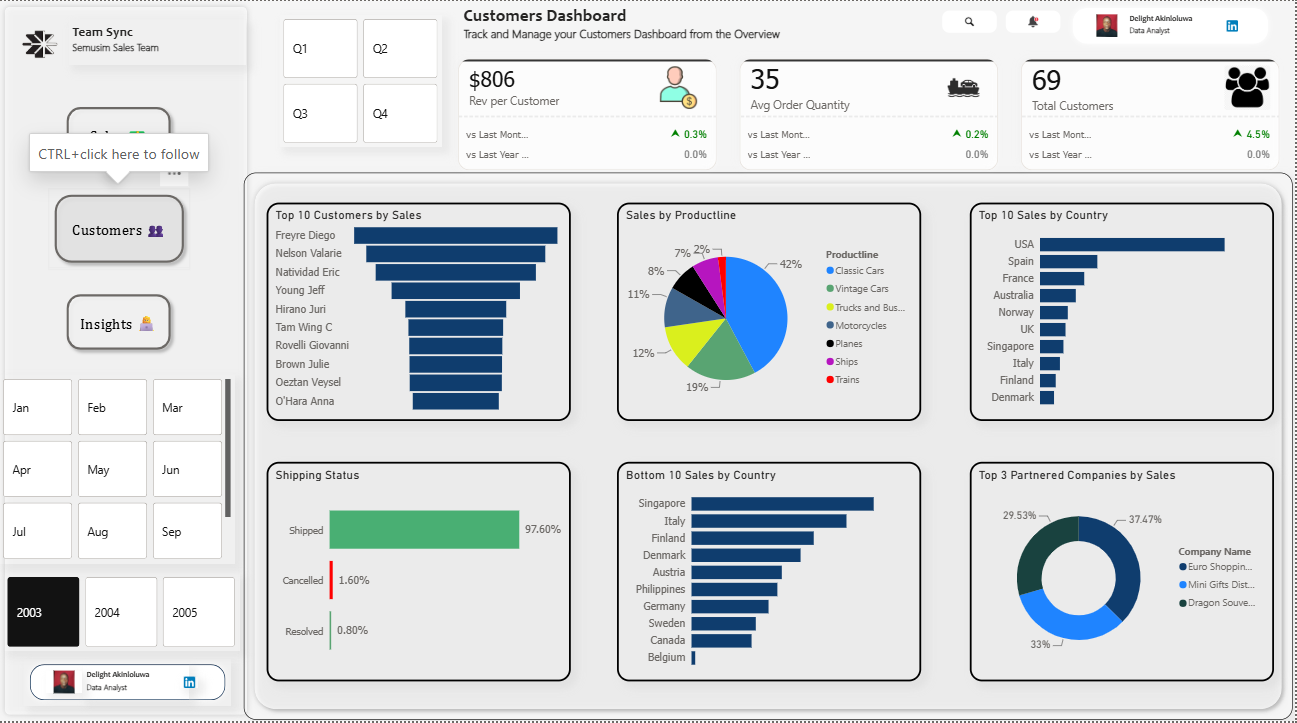

This screenshot's page, from the dashboard's own definition file:
{"tool":"powerbi","page":{"name":"Team Sync","canvas":[1800,1000],"ordinal":0},"visuals":[{"type":"shape","box":[0,0,352.6,999.3],"z":0},{"type":"group","id":"g1","title":"Group 4","box":[624.5,1,1179.3,255.3],"z":0,"group":"g3"},{"type":"textbox","box":[642.8,1,684.5,72.4],"z":0,"group":"g1"},{"type":"shape","box":[1485.7,3.5,287.3,65.7],"z":0,"group":"g5"},{"type":"image","box":[1312.8,10.5,75.6,35.5],"z":0,"group":"g4"},{"type":"image","box":[0,15.8,113.6,89.5],"z":0,"group":"g6"},{"type":"group","id":"g2","title":"Group 6","box":[343.1,239.7,1456.9,760.3],"z":0,"group":"g7"},{"type":"shape","box":[343.1,239.7,1456.9,760.3],"z":0,"group":"g2"},{"type":"actionButton","title":"Customer BT","box":[85.9,268.1,162.5,95],"z":0,"group":"g11"},{"type":"actionButton","title":"Customer BT","box":[84.7,397.5,162.5,95],"z":0,"group":"g10"},{"type":"advancedSlicerVisual","fields":{"Values":["Calendar_Date.Month"]},"box":[0,520,327.5,262.5],"z":0,"group":"g9"},{"type":"shape","box":[34.5,913.8,287.3,65.7],"z":0,"group":"g8"},{"type":"group","id":"g3","title":"Group 7","box":[393.1,1,1410.7,255.3],"z":1000,"group":"g7"},{"type":"group","id":"g4","title":"Group 3","box":[1312.8,3.5,460.4,65.7],"z":1000,"group":"g1"},{"type":"image","box":[1401.8,10.5,75.6,35.5],"z":1000,"group":"g4"},{"type":"image","box":[1515.9,20.6,50.4,31.5],"z":1000,"group":"g5"},{"type":"advancedSlicerVisual","fields":{"Values":["Calendar_Date.Quarter"]},"box":[393.1,20.7,225.9,182.8],"z":1000,"group":"g3"},{"type":"textbox","box":[96.1,27.6,246.1,61.8],"z":1000,"group":"g6"},{"type":"actionButton","title":"Sales BT","box":[67.5,127.5,197.5,112.4],"z":1000},{"type":"lineChart","title":"Sales by Month","fields":{"Category":["Calendar_Date.Month"],"Y":["All Calculations.Total Sales"]},"box":[374.1,281.1,422.4,303.4],"z":1000,"group":"g2"},{"type":"advancedSlicerVisual","fields":{"Values":["Calendar_Date.Year"]},"box":[6.7,795,328.3,107.5],"z":1000,"group":"g9"},{"type":"image","box":[64.7,930.9,50.4,31.5],"z":1000,"group":"g8"},{"type":"group","id":"g5","title":"Group 2","box":[1485.7,3.5,287.3,65.7],"z":2000,"group":"g4"},{"type":"textbox","box":[1568,10.1,147.9,51.2],"z":2000,"group":"g5"},{"type":"group","id":"g6","title":"Group 1","box":[0,15.8,342.1,89.5],"z":2000},{"type":"cardVisual","fields":{"Data":["All Calculations.Total Sales","Table.No of Orders","Table.Total Quantity sold","Table.Average Sales per Order"]},"box":[624.5,61.4,1179.3,194.8],"z":2000,"group":"g1"},{"type":"lineChart","title":"Sales by Quarter ","fields":{"Category":["Calendar_Date.Quarter"],"Y":["All Calculations.Total Sales"]},"box":[862.1,281.1,422.4,303.4],"z":2000,"group":"g2"},{"type":"textbox","box":[116.8,920.4,147.9,51.2],"z":2000,"group":"g8"},{"type":"group","id":"g7","title":"Sales Dashboard View","box":[343.1,1,1460.7,999],"z":3000},{"type":"image","box":[1702.4,28.5,25.2,15.8],"z":3000,"group":"g5"},{"type":"lineStackedColumnComboChart","title":"Sales by Week Days","fields":{"Category":["Calendar_Date.Weekday"],"Y":["All Calculations.Total Sales"]},"box":[1351.7,281.1,422.4,303.4],"z":3000,"group":"g2"},{"type":"image","box":[251.2,938.8,25.2,15.8],"z":3000,"group":"g8"},{"type":"clusteredBarChart","title":"Price vs MSRP Difference","fields":{"Category":["sales_data_sample.PRODUCTLINE"],"Y":["All Calculations.Price Difference"]},"box":[374.1,641.4,422.4,305.2],"z":4000,"group":"g2"},{"type":"group","id":"g8","title":"Group 2","box":[34.5,913.8,287.9,65.5],"z":4000},{"type":"group","id":"g9","title":"Group 5","box":[0,520,335,382.5],"z":5000},{"type":"clusteredBarChart","title":"Avg Price Difference","fields":{"Category":["sales_data_sample.PRODUCTLINE"],"Y":["All Calculations.Aveg PriceDifference"]},"box":[862.1,641.4,422.4,305.2],"z":5000,"group":"g2"},{"type":"pieChart","title":"Sales by Deal Size","fields":{"Category":["sales_data_sample.DEALSIZE"],"Y":["All Calculations.Total Sales"]},"box":[1351.7,641.4,422.4,305.2],"z":6000,"group":"g2"},{"type":"group","id":"g10","title":"Insight SBT","box":[84.7,397.5,162.5,95],"z":10000},{"type":"group","id":"g11","title":"Customer SBT","box":[85.9,268.1,162.5,95],"z":11000}]}

Visuals, with their boxes on the page's 1800x1000 design canvas (x1, y1, x2, y2). These are canvas units, not pixel positions in the 1297x723 screenshot, which may show the page scaled, cropped or inside an application window:
shape: box=[0, 0, 353, 999]
"Group 4" group: box=[624, 1, 1804, 256]
textbox: box=[643, 1, 1327, 73]
shape: box=[1486, 4, 1773, 69]
image: box=[1313, 10, 1388, 46]
image: box=[0, 16, 114, 105]
"Group 6" group: box=[343, 240, 1800, 1000]
shape: box=[343, 240, 1800, 1000]
"Customer BT" actionButton: box=[86, 268, 248, 363]
"Customer BT" actionButton: box=[85, 398, 247, 492]
advancedSlicerVisual - Calendar_Date.Month: box=[0, 520, 328, 782]
shape: box=[34, 914, 322, 980]
"Group 7" group: box=[393, 1, 1804, 256]
"Group 3" group: box=[1313, 4, 1773, 69]
image: box=[1402, 10, 1477, 46]
image: box=[1516, 21, 1566, 52]
advancedSlicerVisual - Calendar_Date.Quarter: box=[393, 21, 619, 204]
textbox: box=[96, 28, 342, 89]
"Sales BT" actionButton: box=[68, 128, 265, 240]
"Sales by Month" lineChart: box=[374, 281, 796, 584]
advancedSlicerVisual - Calendar_Date.Year: box=[7, 795, 335, 902]
image: box=[65, 931, 115, 962]
"Group 2" group: box=[1486, 4, 1773, 69]
textbox: box=[1568, 10, 1716, 61]
"Group 1" group: box=[0, 16, 342, 105]
cardVisual - All Calculations.Total Sales x Table.No of Orders: box=[624, 61, 1804, 256]
"Sales by Quarter " lineChart: box=[862, 281, 1284, 584]
textbox: box=[117, 920, 265, 972]
"Sales Dashboard View" group: box=[343, 1, 1804, 1000]
image: box=[1702, 28, 1728, 44]
"Sales by Week Days" lineStackedColumnComboChart: box=[1352, 281, 1774, 584]
image: box=[251, 939, 276, 955]
"Price vs MSRP Difference" clusteredBarChart: box=[374, 641, 796, 947]
"Group 2" group: box=[34, 914, 322, 979]
"Group 5" group: box=[0, 520, 335, 902]
"Avg Price Difference" clusteredBarChart: box=[862, 641, 1284, 947]
"Sales by Deal Size" pieChart: box=[1352, 641, 1774, 947]
"Insight SBT" group: box=[85, 398, 247, 492]
"Customer SBT" group: box=[86, 268, 248, 363]
